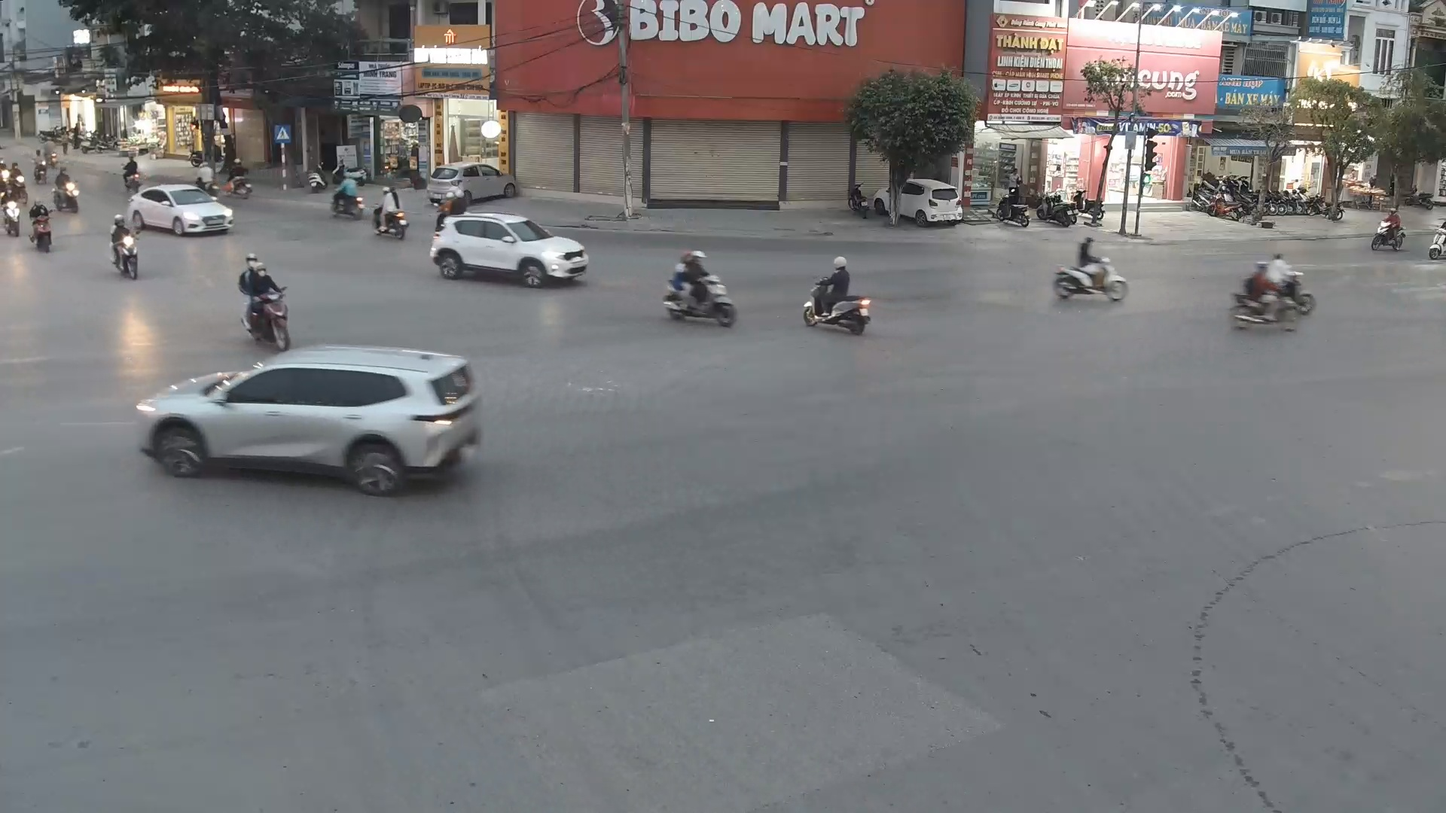car: (134, 347, 481, 493), (430, 210, 590, 289), (135, 182, 235, 237)
motorbike: (1227, 252, 1317, 334), (660, 248, 741, 328), (799, 253, 875, 336), (235, 250, 293, 352), (1049, 234, 1130, 305), (108, 210, 142, 281), (27, 199, 56, 254), (54, 166, 82, 216), (0, 189, 25, 238)
